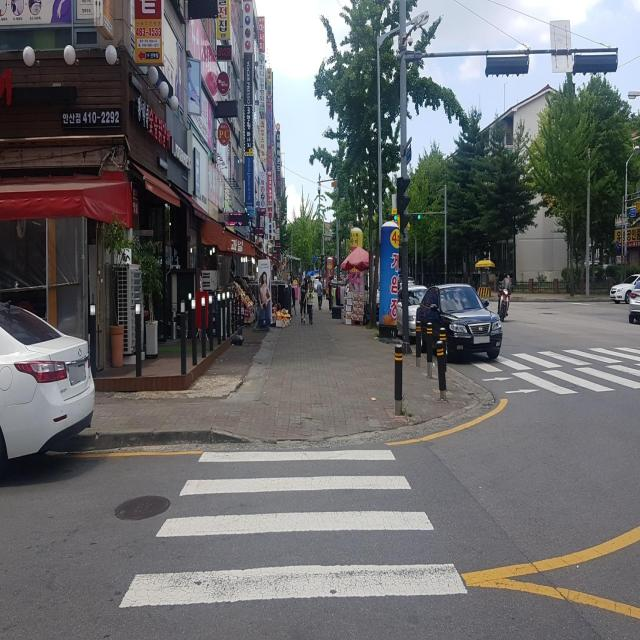횡단보도: (117, 447, 469, 613), (467, 351, 640, 394)
